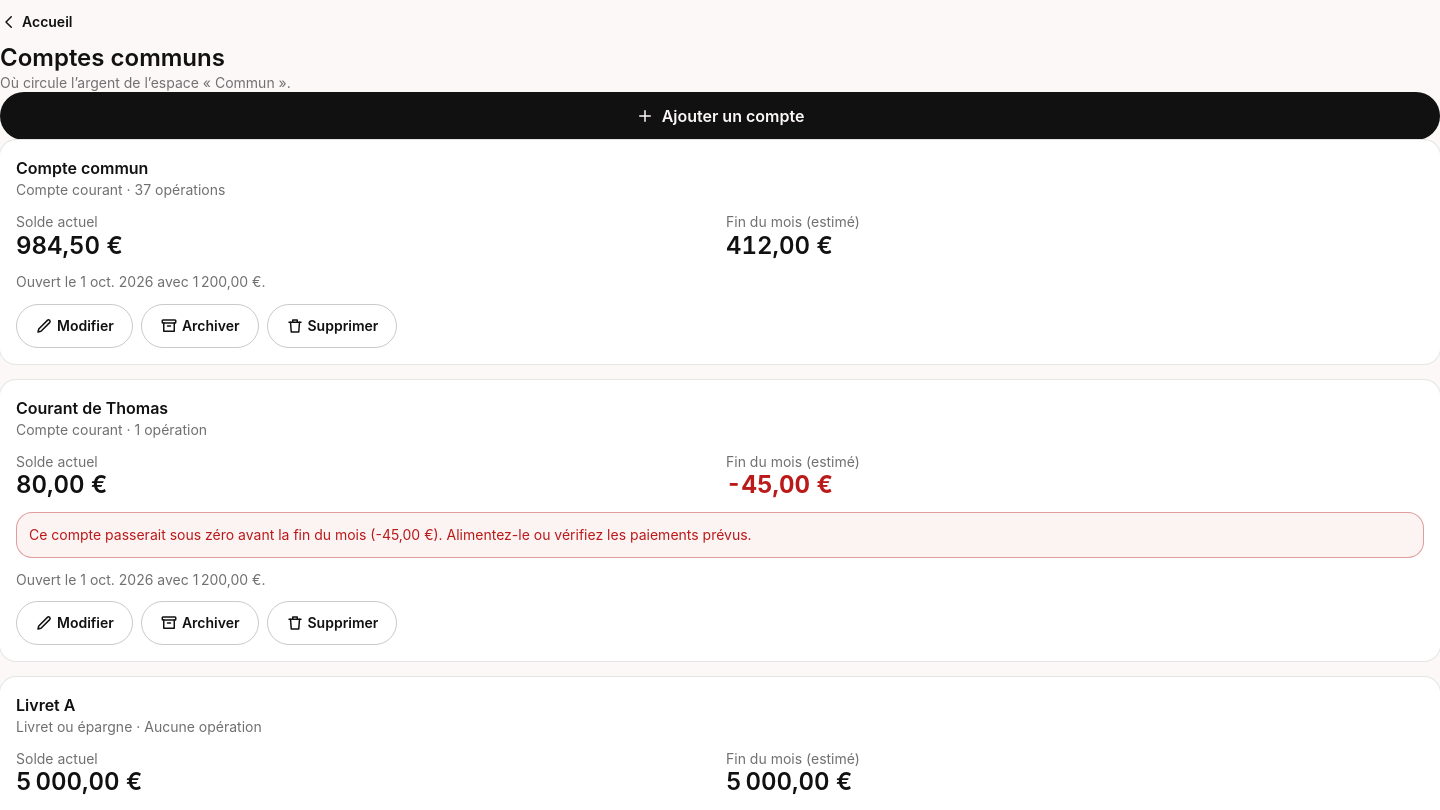
Test: ComptesPage › add and edit › keeps the form open with the server message when the creation fails
Click the button "Ajouter un compte". click: (720, 116)
box: 0,92 -> 1439,140
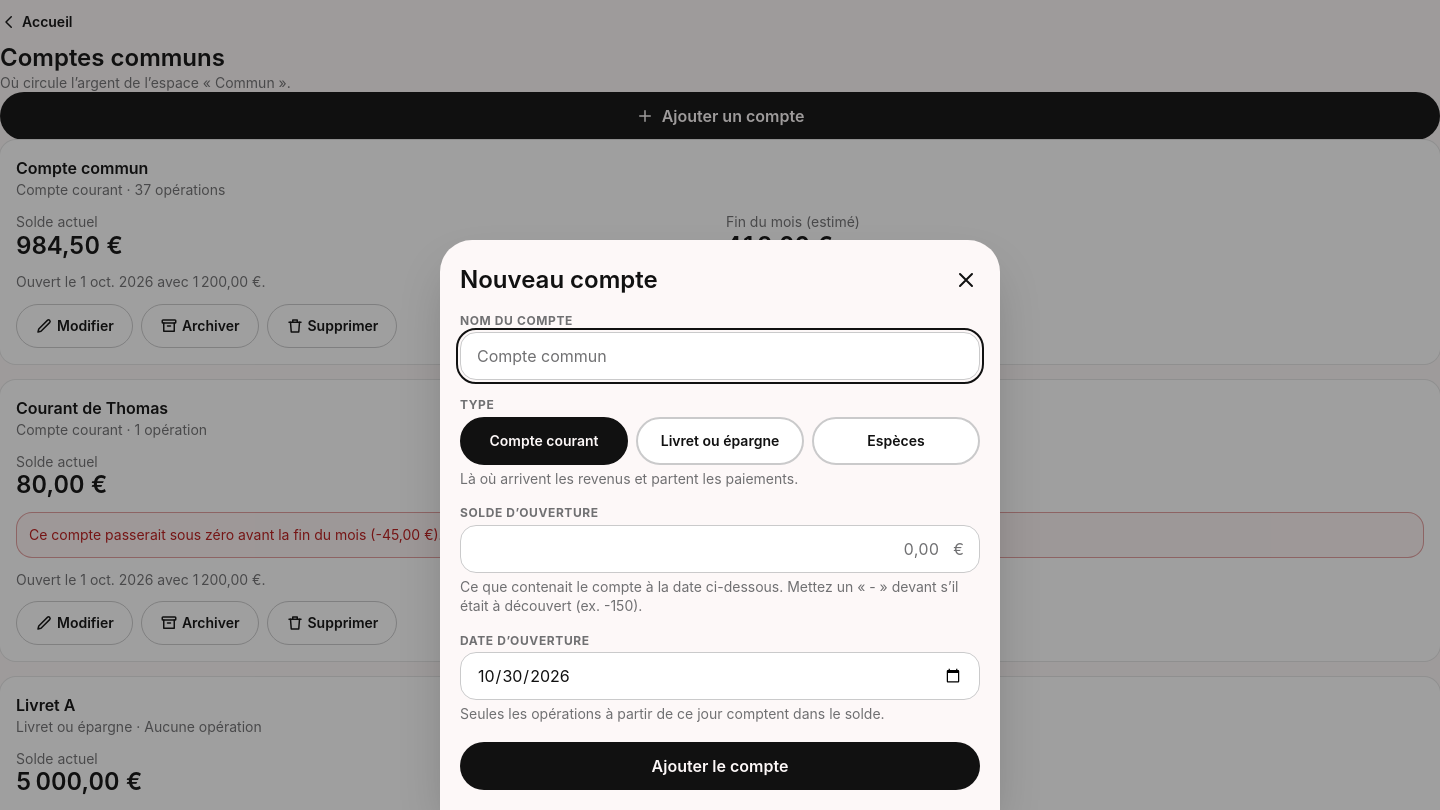
Type "Nouveau" into the field labelled "Nom du compte". click: (720, 356)
box: 460,332 -> 980,380
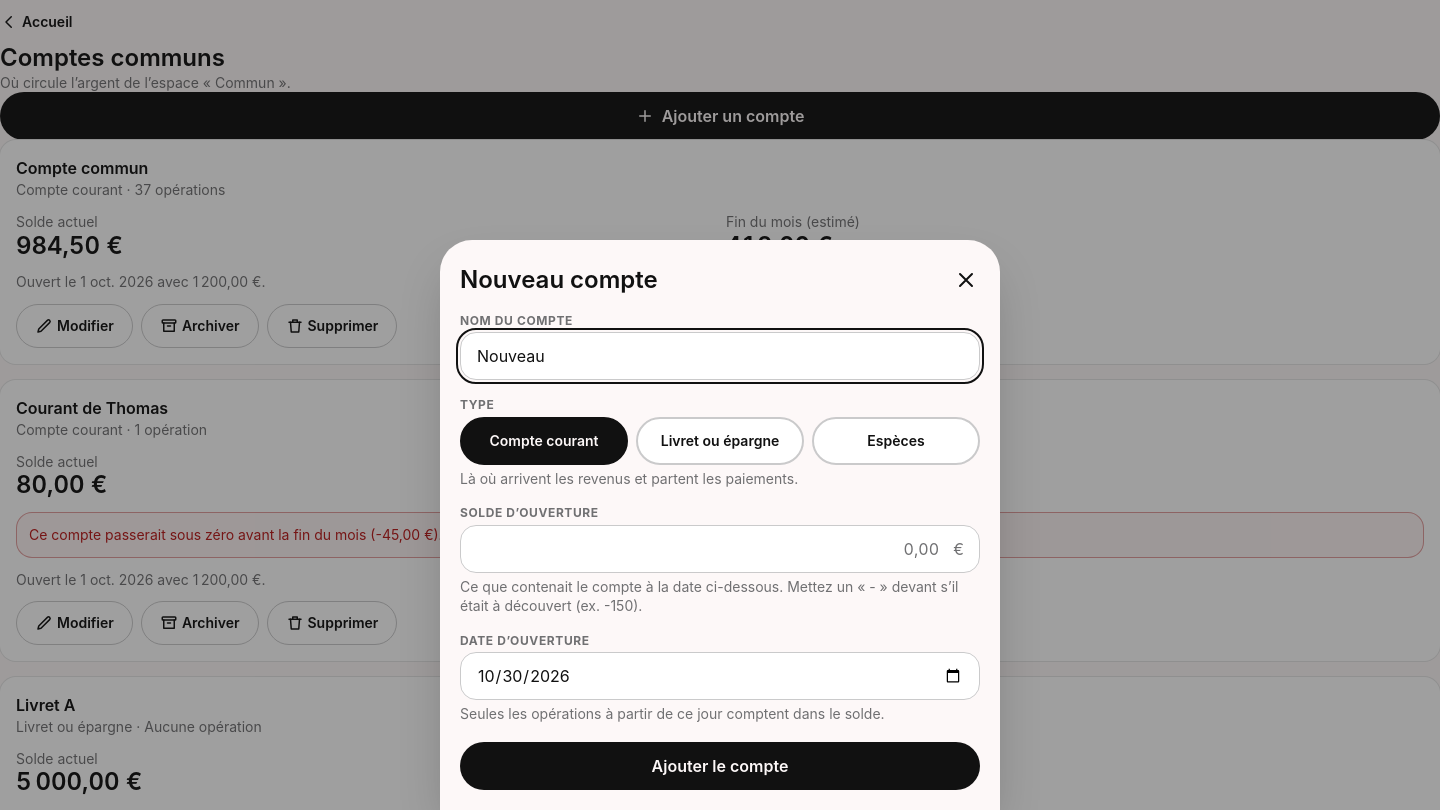
Click the button "Ajouter le compte". click: (720, 766)
box: 460,742 -> 980,790
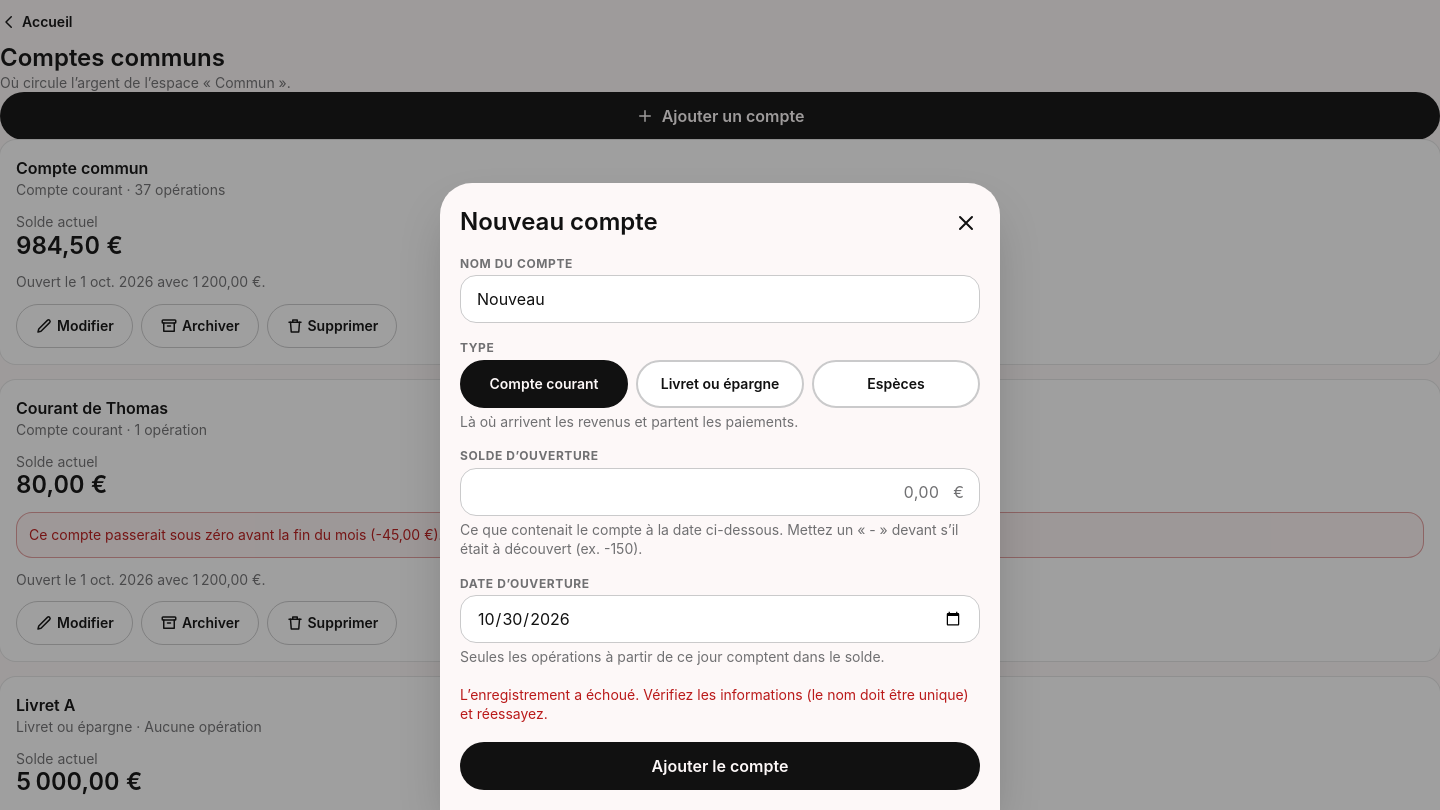
Now the dialog is shown, box 440,183 -> 1000,809
Now the text "L’enregistrement a échoué" is shown, box 460,686 -> 969,722
